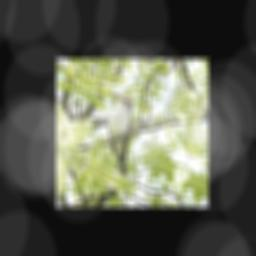Cuckoo: (84, 89, 157, 179)
